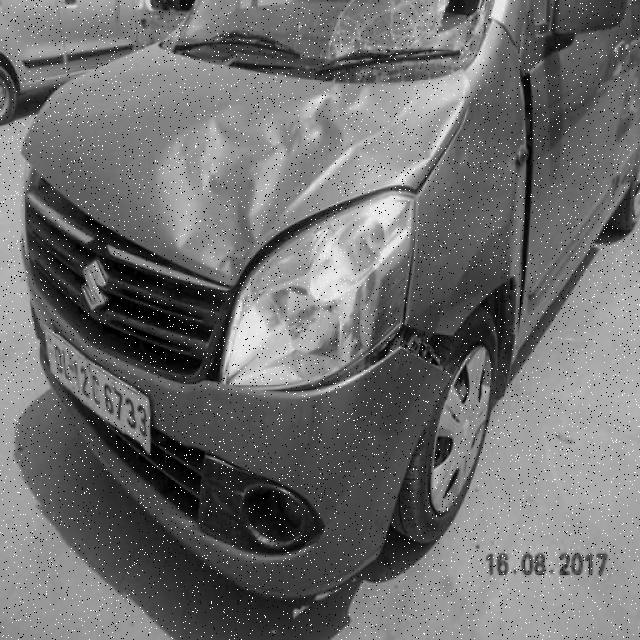car damage: (159, 70, 467, 276), (19, 152, 235, 291), (259, 324, 459, 401), (326, 0, 503, 79), (518, 74, 535, 338)
